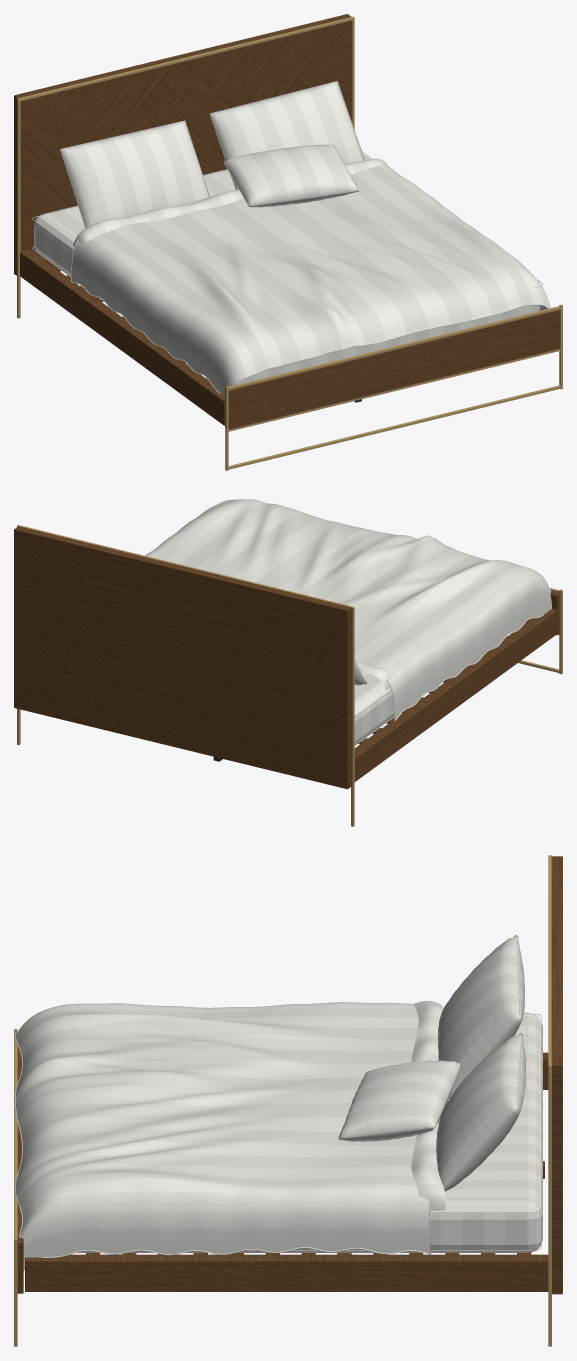
3 views of the same model, one above another, from view 1: azimuth 30°, elevation 25°; view 2: azimuth 150°, elevation 25°; view 3: azimuth 270°, elevation 25° (orthographic). The views are drawn at different scales.
Parts seen in each view (by area): view 1: SIENNA LV463-B02 | LV463-B02-01 optimized; view 2: SIENNA LV463-B02 | LV463-B02-01 optimized; view 3: SIENNA LV463-B02 | LV463-B02-01 optimized.
Part boxes in pixels (box(x1,y1,x2,y2)): SIENNA LV463-B02 | LV463-B02-01 optimized: box(14, 14, 562, 470); SIENNA LV463-B02 | LV463-B02-01 optimized: box(14, 499, 562, 826); SIENNA LV463-B02 | LV463-B02-01 optimized: box(14, 855, 562, 1346).
Size of the model in its own units: 1.93 by 1.2 by 2.13.
Materials: 7 (4 with a texture image).
